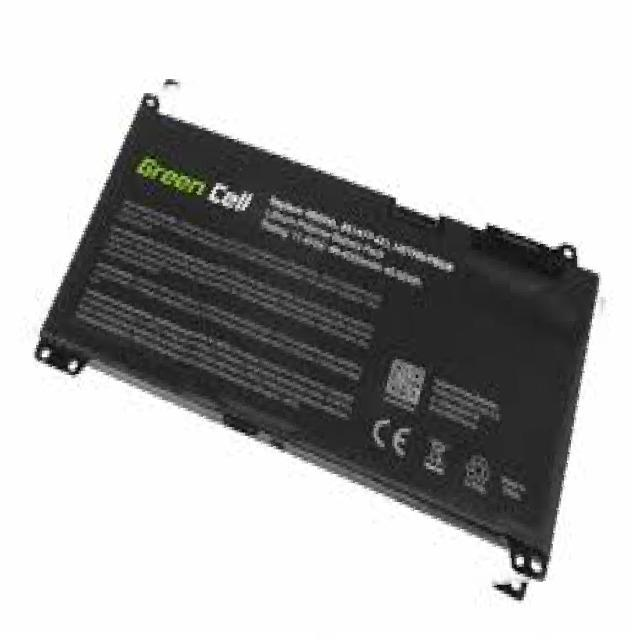Battery: (15, 60, 640, 599)
